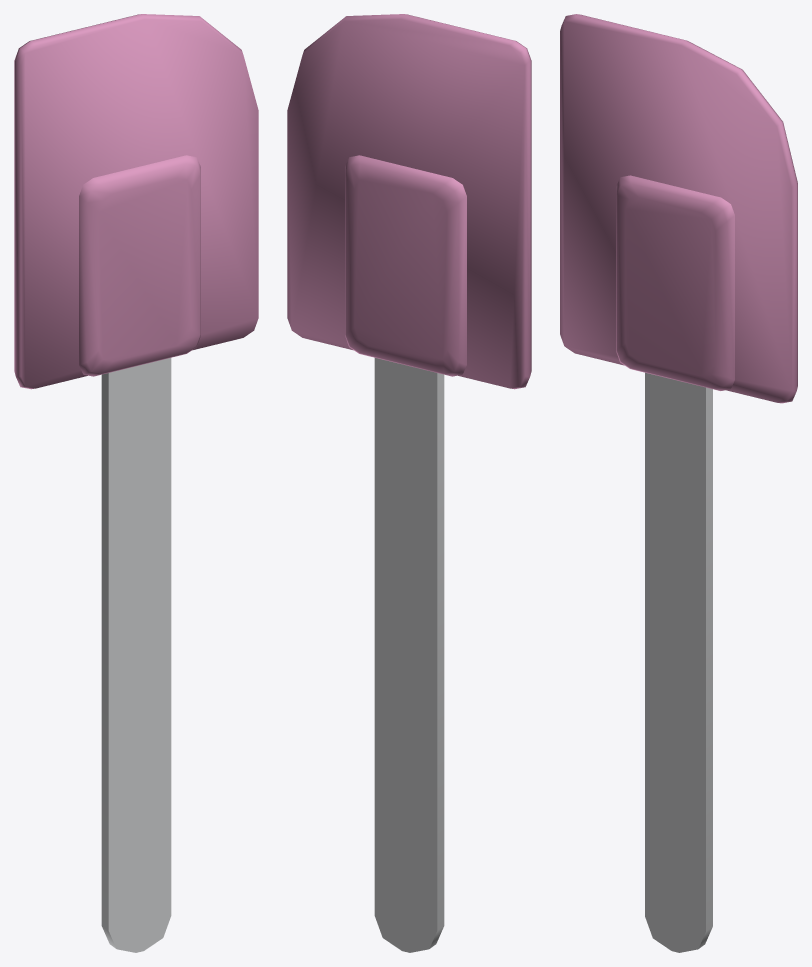
Rendered from cutensils_spatula_rubber_pink.glb.
3 renders of one model, left to right at view 1: azimuth 30°, elevation 25°; view 2: azimuth 150°, elevation 25°; view 3: azimuth 330°, elevation 25°, orthographic. The views are drawn at different scales.
Parts seen in each view (by area): view 1: cutensils spatula rubber pink; view 2: cutensils spatula rubber pink; view 3: cutensils spatula rubber pink.
Boxes of the visible parts, x1,y1,x2,y2 form: cutensils spatula rubber pink: (14,14,258,952); cutensils spatula rubber pink: (287,14,531,952); cutensils spatula rubber pink: (560,14,797,952).
Size of the model in its own units: 1.86 by 6.88 by 0.2312.
1 material, 1 textured.
